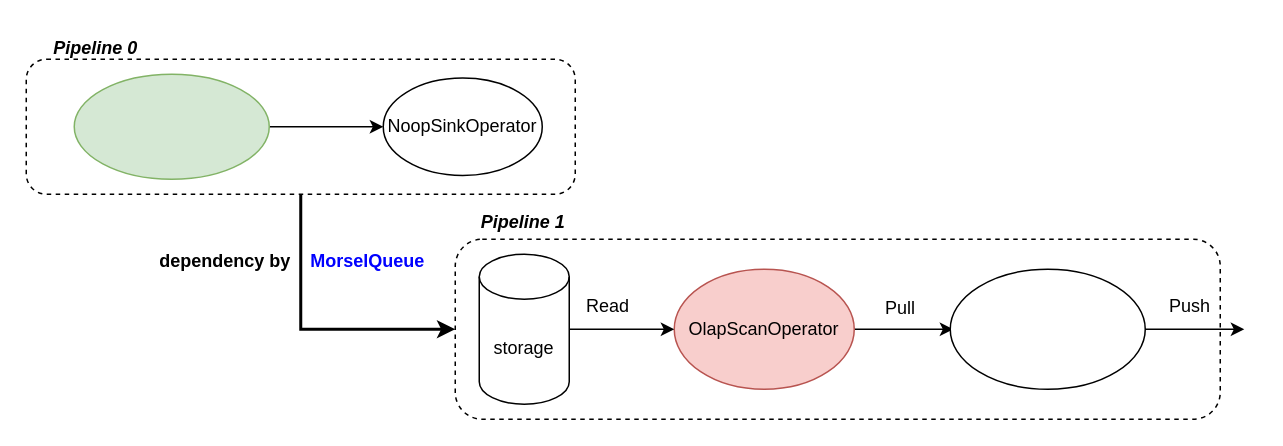
The diagram is 1283 pixels wide and 446 high, and some of its shapes have lost their labels. Each missing label, with the centre of its shape:
HashJoinBuildOperator: pixel 1047 328
OlapPrepareOperator: pixel 171 126
